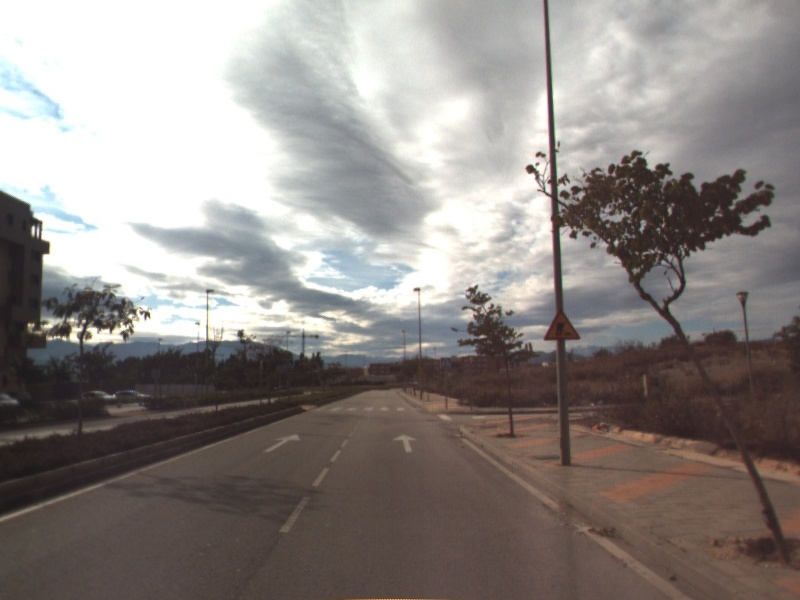STRAIGHT: (261, 431, 303, 454), (391, 432, 420, 454)
